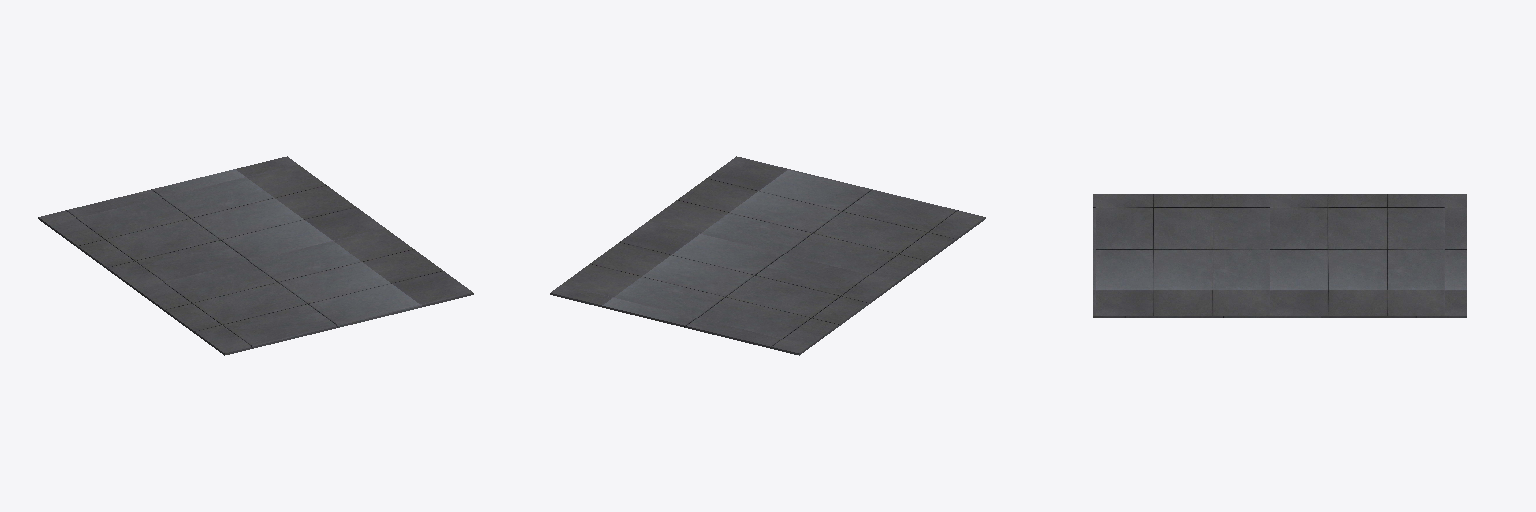
3 views of the same model, side by side, from view 1: azimuth 30°, elevation 25°; view 2: azimuth 150°, elevation 25°; view 3: azimuth 270°, elevation 25° (orthographic).
Parts seen in each view (by area): view 1: Mesh1 Component_754 G_18_Fliesenboden_dwg1 Model; view 2: Mesh1 Component_754 G_18_Fliesenboden_dwg1 Model; view 3: Mesh1 Component_754 G_18_Fliesenboden_dwg1 Model.
Boxes of the visible parts, <box> form: Mesh1 Component_754 G_18_Fliesenboden_dwg1 Model: <box>38,156,473,355</box>; Mesh1 Component_754 G_18_Fliesenboden_dwg1 Model: <box>550,156,985,355</box>; Mesh1 Component_754 G_18_Fliesenboden_dwg1 Model: <box>1093,194,1466,317</box>.
Bounding box in the file's own units: 126 × 1 × 163.
1 materials, 1 textured.